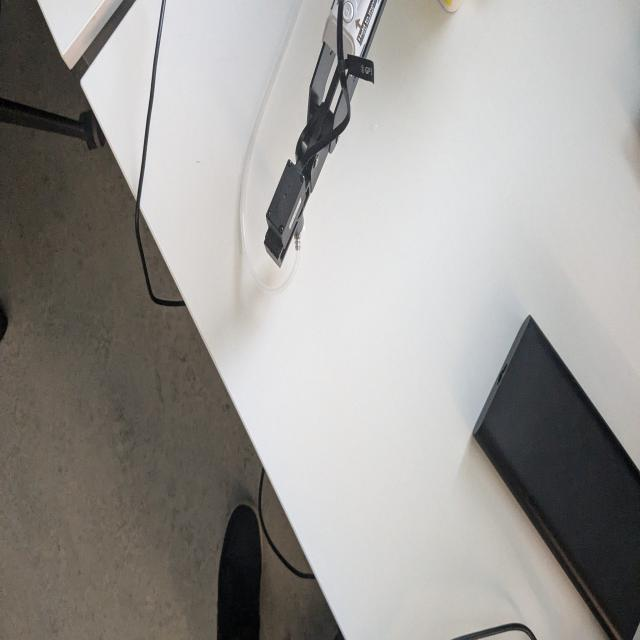Robot-end-effector-HF8z: (263, 159, 312, 275)
